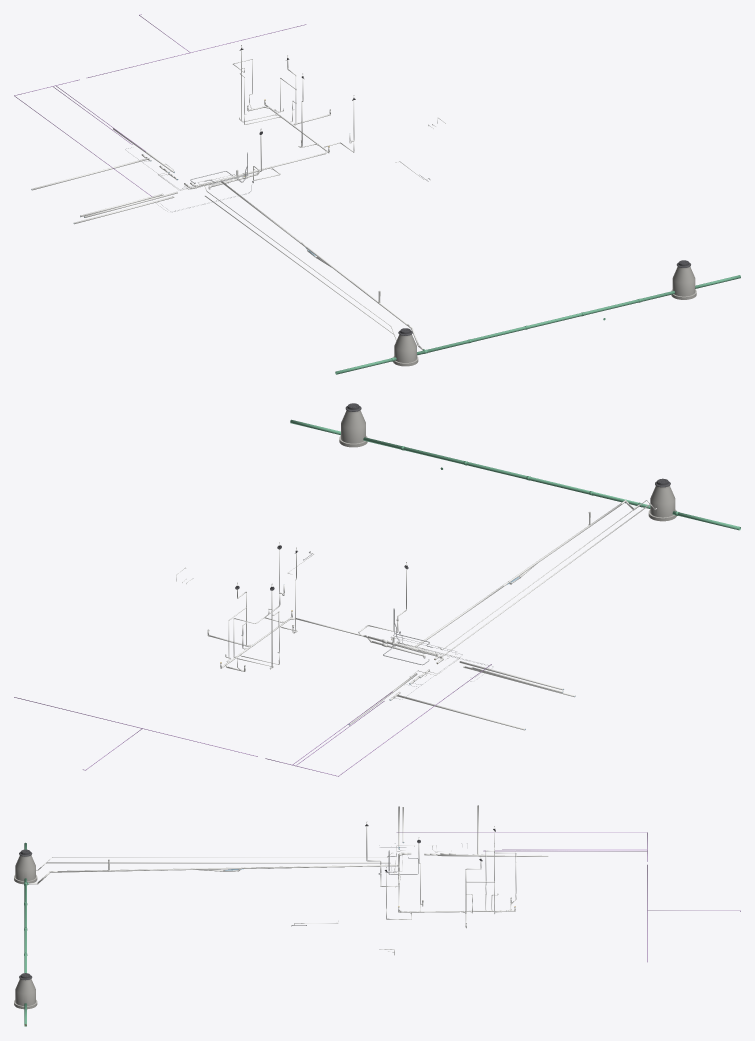
The model's file is slab_pipes_dwv.glb.
3 renders of one model, top to bottom at view 1: azimuth 30°, elevation 25°; view 2: azimuth 150°, elevation 25°; view 3: azimuth 270°, elevation 25°, orthographic. The views are drawn at different scales.
Parts seen in each view (by area): view 1: pipe_dwv_city_main, manhole_city_east, manhole_city_west; view 2: pipe_dwv_city_main, manhole_city_east, manhole_city_west; view 3: pipe_dwv_force_main_lift_duplex, pipe_dwv_sewer_city, manhole_city_east, manhole_city_west, pipe_dwv_sewer_city_belly, pipe_dwv_city_main.
Boxes of the visible parts, x1,y1,x2,y2 form: pipe_dwv_city_main: [335, 275, 740, 374]; manhole_city_east: [671, 267, 696, 299]; manhole_city_west: [393, 334, 418, 366]; pipe_dwv_city_main: [290, 419, 740, 530]; manhole_city_east: [339, 410, 367, 447]; manhole_city_west: [648, 486, 676, 521]; pipe_dwv_force_main_lift_duplex: [36, 862, 389, 870]; pipe_dwv_sewer_city: [29, 864, 398, 884]; manhole_city_east: [14, 979, 37, 1009]; manhole_city_west: [14, 855, 37, 884]; pipe_dwv_sewer_city_belly: [58, 864, 397, 872]; pipe_dwv_city_main: [24, 842, 27, 1026].
Bounding box in the file's own units: 34.77 × 8.07 × 52.21.
